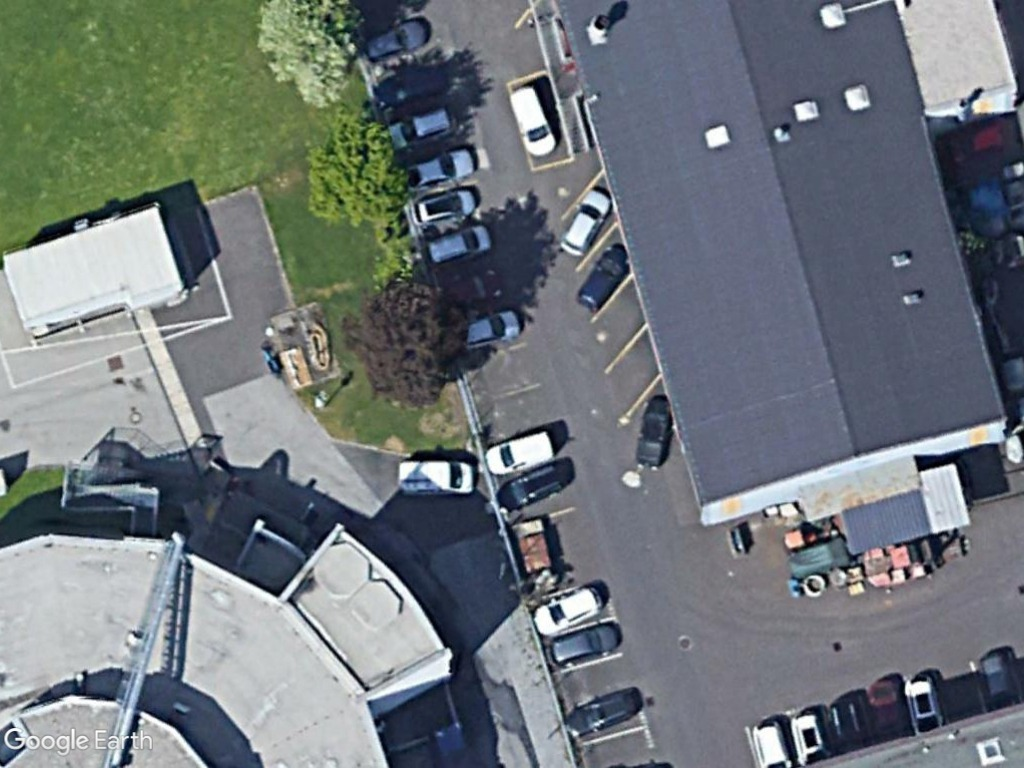car: (542, 616, 624, 672), (553, 186, 612, 260), (532, 583, 608, 640), (560, 687, 640, 739), (384, 102, 461, 152), (400, 144, 480, 192), (496, 461, 568, 513), (571, 250, 627, 316), (402, 184, 480, 229), (424, 218, 497, 265), (356, 18, 432, 63), (458, 306, 523, 349)
van: (503, 86, 561, 160), (481, 427, 560, 477), (394, 456, 475, 501)
